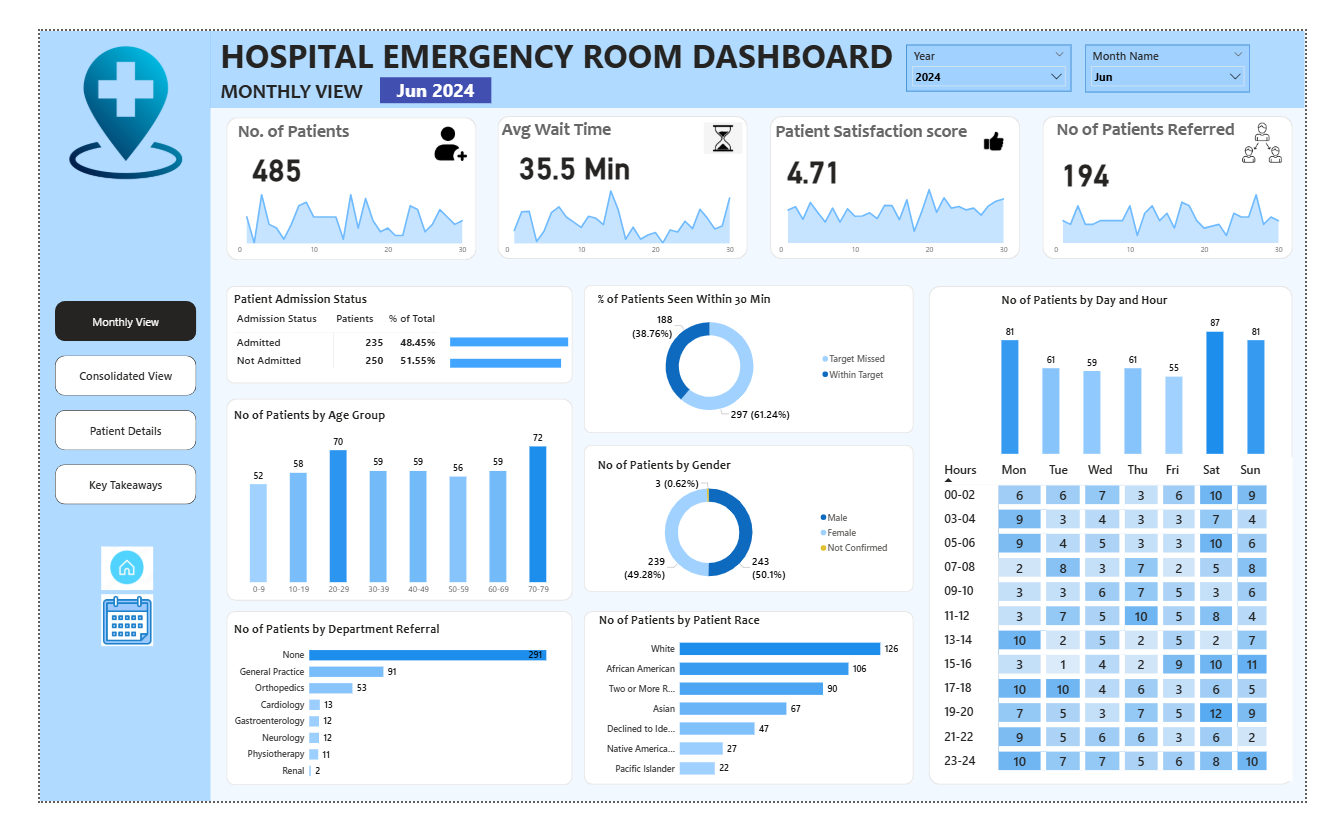

Layout of this report page (visuals, bound fields, positions):
{"tool":"powerbi","page":{"name":"Monthly View","canvas":[2300,1400],"ordinal":0},"visuals":[{"type":"shape","box":[0,0,310,1400.5],"z":0},{"type":"shape","box":[309.2,0,1990,140],"z":1000},{"type":"textbox","box":[323.9,0,1249.5,89.8],"z":2000},{"type":"textbox","box":[323.9,81.5,271.6,58.5],"z":3000},{"type":"shape","box":[337.5,157.5,455,260],"z":4000},{"type":"card","fields":{"Values":["Hospital ER_Data.No of Patients"]},"box":[362.5,197.5,135,100],"z":5000},{"type":"slicer","fields":{"Values":["Date Table.Year"]},"box":[1575,25,300,85],"z":6000},{"type":"slicer","fields":{"Values":["Date Table.Month Name"]},"box":[1900,25,300,86.4],"z":7000},{"type":"textbox","box":[1362.5,257.5,300,52.5],"z":8000},{"type":"areaChart","fields":{"Category":["Date Table.Date.Variation.Date Hierarchy.Day"],"Y":["Hospital ER_Data.No of Patients"]},"box":[347.5,270,435,145],"z":9000},{"type":"card","fields":{"Values":["Min(Date Table.Month & Year)"]},"box":[617.5,85,202.5,47.5],"z":10000},{"type":"shape","box":[832.5,155,455,260],"z":11000},{"type":"shape","box":[1327.5,155,455,260],"z":12000},{"type":"shape","box":[1822.5,155,455,260],"z":13000},{"type":"card","fields":{"Values":["Hospital ER_Data.Avg Wait Time"]},"box":[850,200,245,85],"z":14000},{"type":"card","fields":{"Values":["Hospital ER_Data.Satisfaction Score"]},"box":[1332.5,200,150,100],"z":15000},{"type":"textbox","box":[355,157.5,275,60],"z":16000},{"type":"textbox","box":[835,155,267.5,60],"z":17000},{"type":"textbox","box":[1842.5,155,415,65],"z":18000},{"type":"textbox","box":[1332.5,157.5,392.5,65],"z":19000},{"type":"areaChart","fields":{"Category":["Date Table.Date.Variation.Date Hierarchy.Day"],"Y":["Avg(Hospital ER_Data.Patient Waittime)"]},"box":[835,270,435,145],"z":20000},{"type":"areaChart","fields":{"Category":["Date Table.Date.Variation.Date Hierarchy.Day"],"Y":["Hospital ER_Data.Satisfaction Score"]},"box":[1332.5,270,435,145],"z":21000},{"type":"areaChart","fields":{"Category":["Date Table.Date.Variation.Date Hierarchy.Day"],"Y":["Hospital ER_Data.No of Patients Referred"]},"box":[1832.5,270,435,145],"z":22000},{"type":"card","fields":{"Values":["Hospital ER_Data.No of Patients Referred"]},"box":[1845,207.5,110,100],"z":23000},{"type":"shape","box":[337.5,462.5,630,177.5],"z":24000},{"type":"pivotTable","title":"Patient Admission Status","fields":{"Rows":["Hospital ER_Data.Admission Status"],"Values":["Hospital ER_Data.No of Patients1","Hospital ER_Data.No of Patients"]},"box":[347.5,472.5,635,167.5],"z":25000},{"type":"barChart","fields":{"Category":["Hospital ER_Data.Admission Status"],"Y":["Hospital ER_Data.No of Patients"]},"box":[740,525,267.5,115],"z":26000},{"type":"shape","box":[337.5,667.5,630,368],"z":27000},{"type":"clusteredColumnChart","fields":{"Category":["Hospital ER_Data.Age Group"],"Y":["Hospital ER_Data.No of Patients"]},"box":[347.7,684.1,609.1,352.3],"z":28000},{"type":"shape","box":[338.3,1055.3,629.8,317],"z":29000},{"type":"clusteredBarChart","fields":{"Category":["Hospital ER_Data.Department Referral"],"Y":["Hospital ER_Data.No of Patients"]},"box":[347.7,1072.7,609.1,300],"z":30000},{"type":"shape","box":[989.4,461.7,600,270],"z":31000},{"type":"donutChart","title":"% of Patients Seen Within 30 Min","fields":{"Category":["Hospital ER_Data.WaitTime Status"],"Y":["Hospital ER_Data.No of Patients"]},"box":[1009.1,472.7,540.9,245.5],"z":32000},{"type":"shape","box":[988.6,752.3,600,268.2],"z":33000},{"type":"donutChart","title":"No of Patients by Gender","fields":{"Y":["Hospital ER_Data.No of Patients"],"Category":["Hospital ER_Data.Patient Gender"]},"box":[1009.1,775,545.5,245.5],"z":34000},{"type":"shape","box":[988.6,1054.5,600,315.9],"z":35000},{"type":"clusteredBarChart","fields":{"Y":["Hospital ER_Data.No of Patients"],"Category":["Hospital ER_Data.Patient Race"]},"box":[1011.4,1056.8,554.5,315.9],"z":36000},{"type":"shape","box":[1615.9,463.6,661.4,906.8],"z":37000},{"type":"pivotTable","fields":{"Rows":["Hospital ER_Data.Waittime Interval"],"Columns":["Date Table.Day Name"],"Values":["Hospital ER_Data.No of Patients"]},"box":[1634.1,775,643.2,588.6],"z":38000},{"type":"columnChart","title":"No of Patients by Day and Hour","fields":{"Category":["Date Table.Day Name"],"Y":["Hospital ER_Data.No of Patients"]},"box":[1743.2,475,490.9,300],"z":39000},{"type":"pageNavigator","box":[27.5,490,257.5,370],"z":40000},{"type":"image","box":[1695,160,77.5,82.5],"z":41000},{"type":"image","box":[702,165.1,85.7,77.3],"z":42000},{"type":"image","box":[27.5,27.5,257.5,242.5],"z":43000},{"type":"image","box":[1205,165,75,57.5],"z":44000},{"type":"image","box":[2177.2,160.9,89.8,83.6],"z":44001},{"type":"image","box":[110.7,1013.4,94,114.9],"z":44002},{"type":"image","box":[110.7,934,94,85.7],"z":44003}]}

Visuals, with their boxes in screenshot pixels (x1, y1, x2, y2), scaled from the page's 2300x1400 canvas onto the 1331x819 screenshot:
shape: Rect(0, 0, 179, 818)
shape: Rect(179, 0, 1330, 82)
textbox: Rect(187, 0, 911, 53)
textbox: Rect(187, 48, 345, 82)
shape: Rect(195, 92, 459, 244)
card - Hospital ER_Data.No of Patients: Rect(210, 116, 288, 174)
slicer - Date Table.Year: Rect(911, 15, 1085, 64)
slicer - Date Table.Month Name: Rect(1100, 15, 1273, 65)
textbox: Rect(788, 151, 962, 181)
areaChart - Date Table.Date.Variation.Date Hierarchy.Day x Hospital ER_Data.No of Patients: Rect(201, 158, 453, 243)
card - Min(Date Table.Month & Year): Rect(357, 50, 475, 78)
shape: Rect(482, 91, 745, 243)
shape: Rect(768, 91, 1032, 243)
shape: Rect(1055, 91, 1318, 243)
card - Hospital ER_Data.Avg Wait Time: Rect(492, 117, 634, 167)
card - Hospital ER_Data.Satisfaction Score: Rect(771, 117, 858, 176)
textbox: Rect(205, 92, 365, 127)
textbox: Rect(483, 91, 638, 126)
textbox: Rect(1066, 91, 1306, 129)
textbox: Rect(771, 92, 998, 130)
areaChart - Date Table.Date.Variation.Date Hierarchy.Day x Avg(Hospital ER_Data.Patient Waittime): Rect(483, 158, 735, 243)
areaChart - Date Table.Date.Variation.Date Hierarchy.Day x Hospital ER_Data.Satisfaction Score: Rect(771, 158, 1023, 243)
areaChart - Date Table.Date.Variation.Date Hierarchy.Day x Hospital ER_Data.No of Patients Referred: Rect(1060, 158, 1312, 243)
card - Hospital ER_Data.No of Patients Referred: Rect(1068, 121, 1131, 180)
shape: Rect(195, 271, 560, 374)
"Patient Admission Status" pivotTable: Rect(201, 276, 569, 374)
barChart - Hospital ER_Data.Admission Status x Hospital ER_Data.No of Patients: Rect(428, 307, 583, 374)
shape: Rect(195, 390, 560, 606)
clusteredColumnChart - Hospital ER_Data.Age Group x Hospital ER_Data.No of Patients: Rect(201, 400, 554, 606)
shape: Rect(196, 617, 560, 803)
clusteredBarChart - Hospital ER_Data.Department Referral x Hospital ER_Data.No of Patients: Rect(201, 628, 554, 803)
shape: Rect(573, 270, 920, 428)
"% of Patients Seen Within 30 Min" donutChart: Rect(584, 277, 897, 420)
shape: Rect(572, 440, 919, 597)
"No of Patients by Gender" donutChart: Rect(584, 453, 900, 597)
shape: Rect(572, 617, 919, 802)
clusteredBarChart - Hospital ER_Data.No of Patients x Hospital ER_Data.Patient Race: Rect(585, 618, 906, 803)
shape: Rect(935, 271, 1318, 802)
pivotTable - Hospital ER_Data.Waittime Interval x Date Table.Day Name: Rect(946, 453, 1318, 798)
"No of Patients by Day and Hour" columnChart: Rect(1009, 278, 1293, 453)
pageNavigator: Rect(16, 287, 165, 503)
image: Rect(981, 94, 1026, 142)
image: Rect(406, 97, 456, 142)
image: Rect(16, 16, 165, 158)
image: Rect(697, 97, 741, 130)
image: Rect(1260, 94, 1312, 143)
image: Rect(64, 593, 118, 660)
image: Rect(64, 546, 118, 597)
